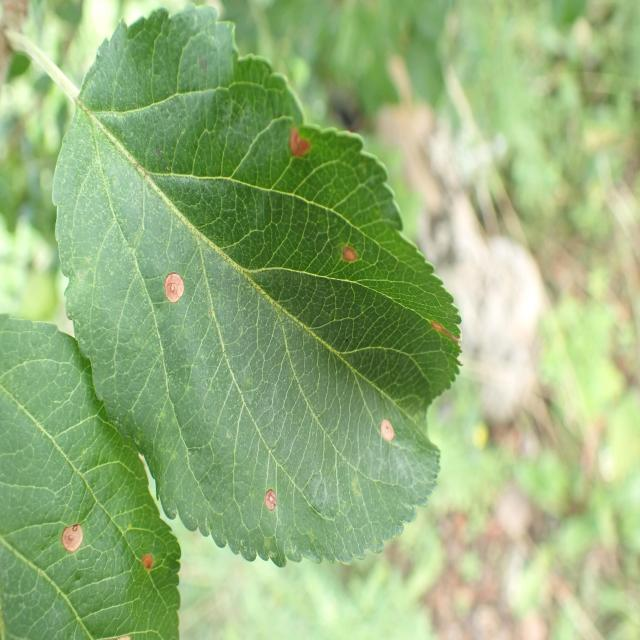Black Rot: (421, 302, 466, 364), (60, 494, 84, 567), (288, 118, 314, 182), (158, 262, 188, 309), (259, 485, 280, 532), (137, 540, 158, 585), (378, 412, 398, 455), (338, 238, 357, 276)
